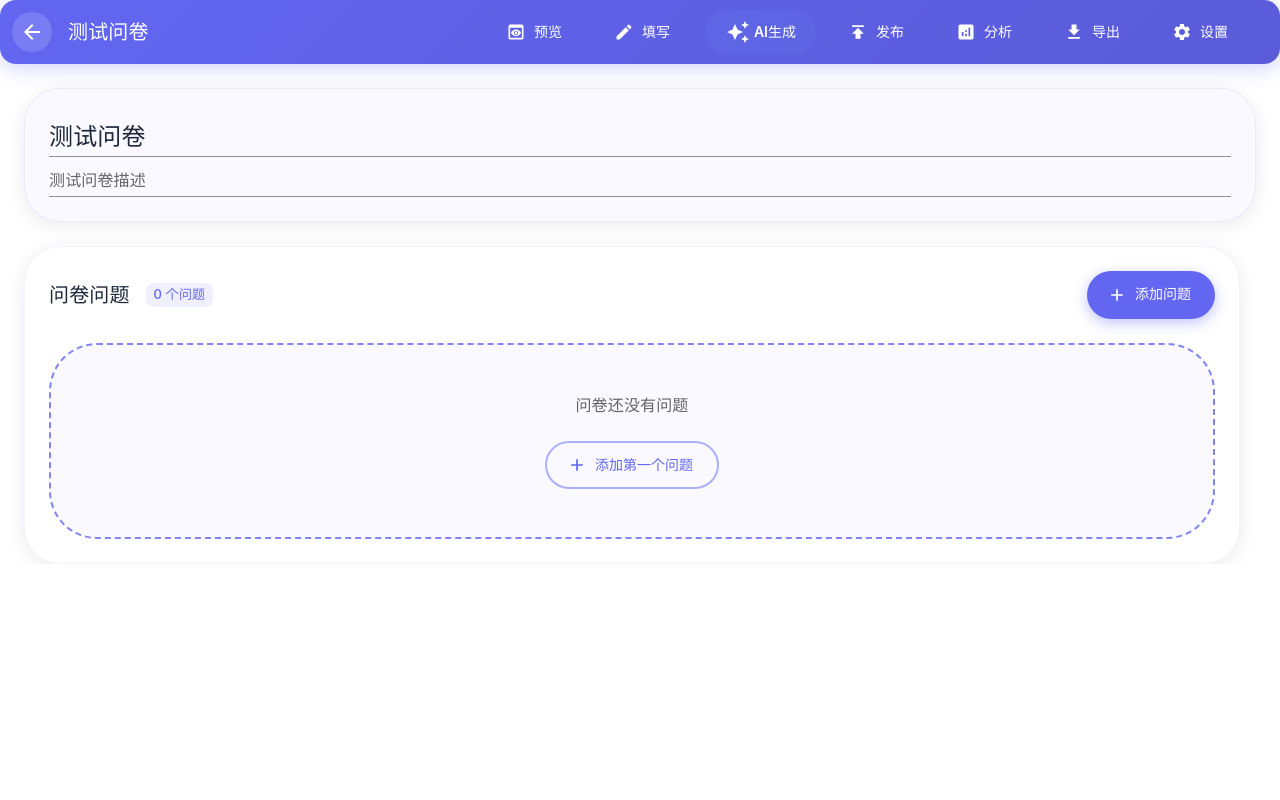
it: QuestionnaireEditor › 测试导出对话框打开
Click the button "导出". click: (1094, 32)
box: [1048,10,1140,54]
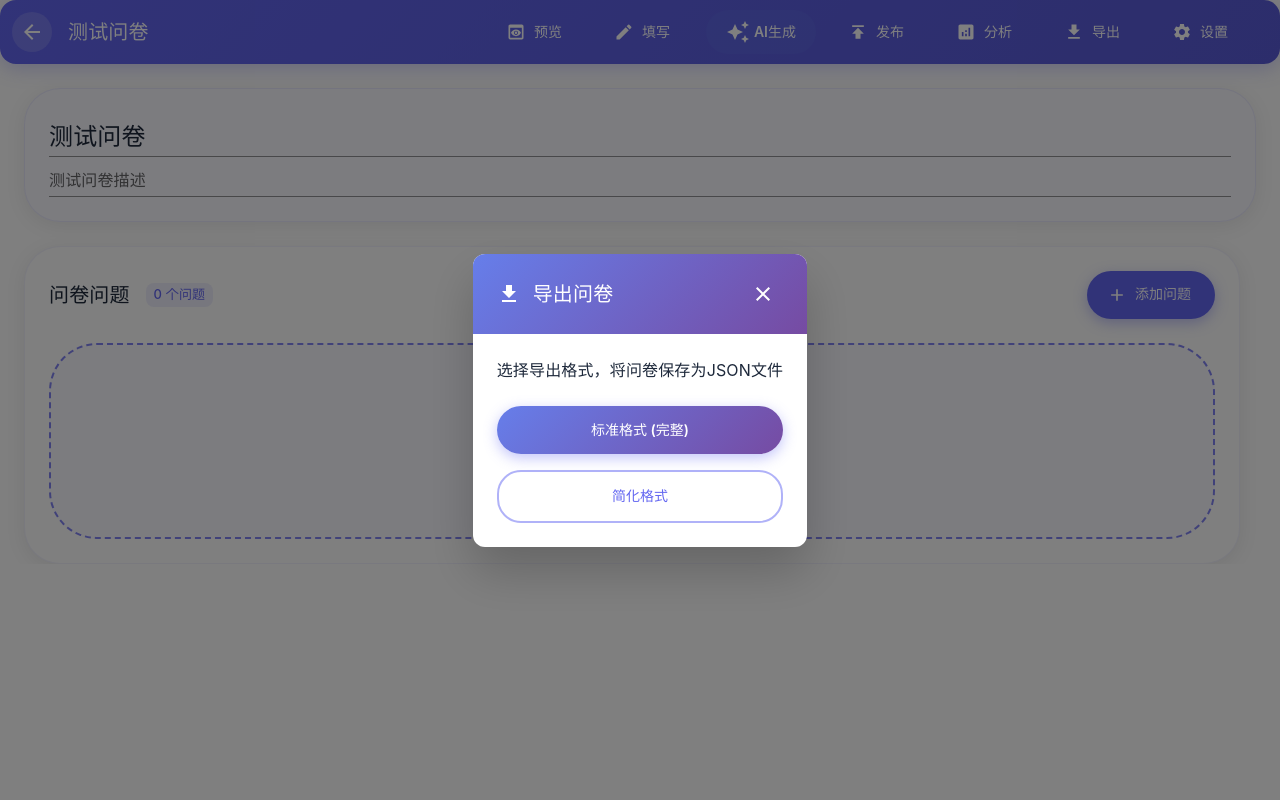
Result: the heading "导出问卷" is shown at [533,278,613,310]
